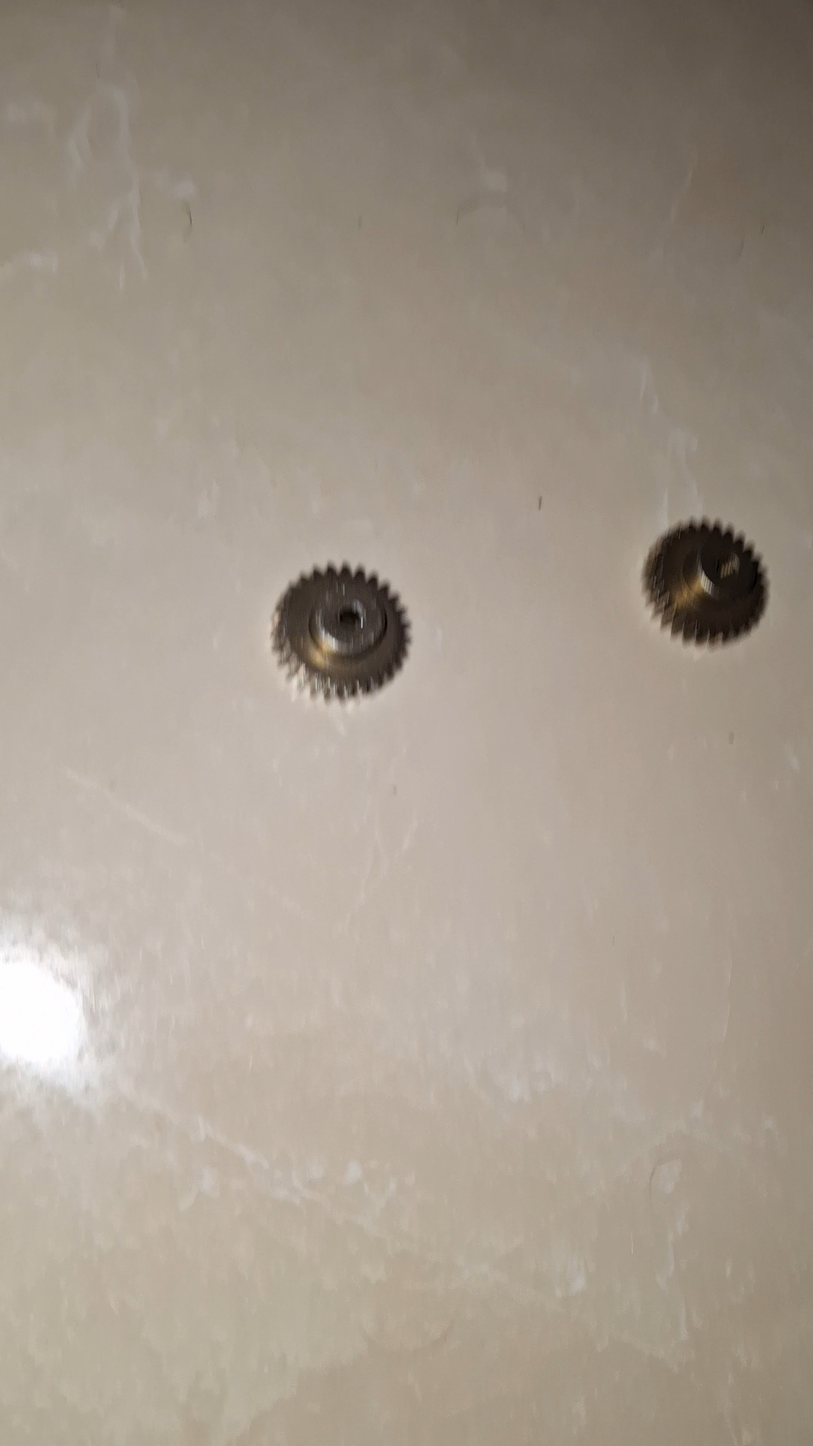spur gear: (272, 565, 408, 699), (643, 521, 766, 643)
